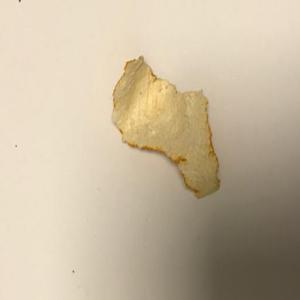Trash: (111, 54, 222, 200)
